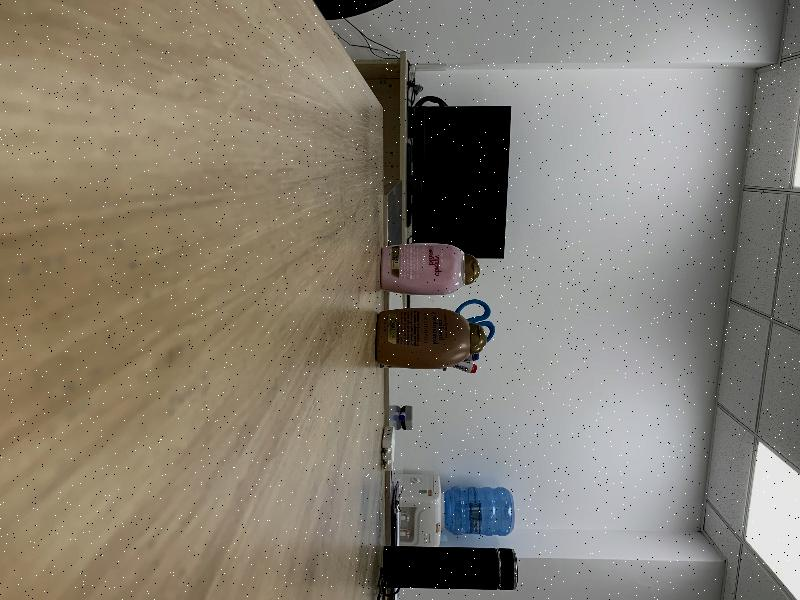BrazilianKerationTherapy_Conditioner: (376, 308, 486, 369)
CherryBlossom_Conditioner: (380, 243, 480, 295)
